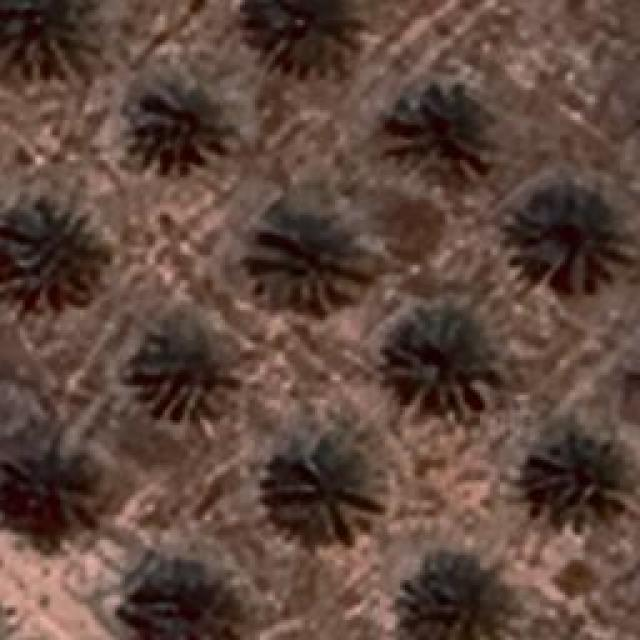PalmTree: (113, 79, 440, 601), (385, 307, 500, 425), (122, 70, 235, 175), (250, 215, 372, 310), (135, 312, 240, 422), (270, 445, 385, 545), (2, 202, 108, 308), (530, 428, 638, 530), (0, 448, 105, 552), (520, 182, 622, 280), (390, 80, 488, 175), (248, 0, 360, 70), (2, 0, 100, 70)
